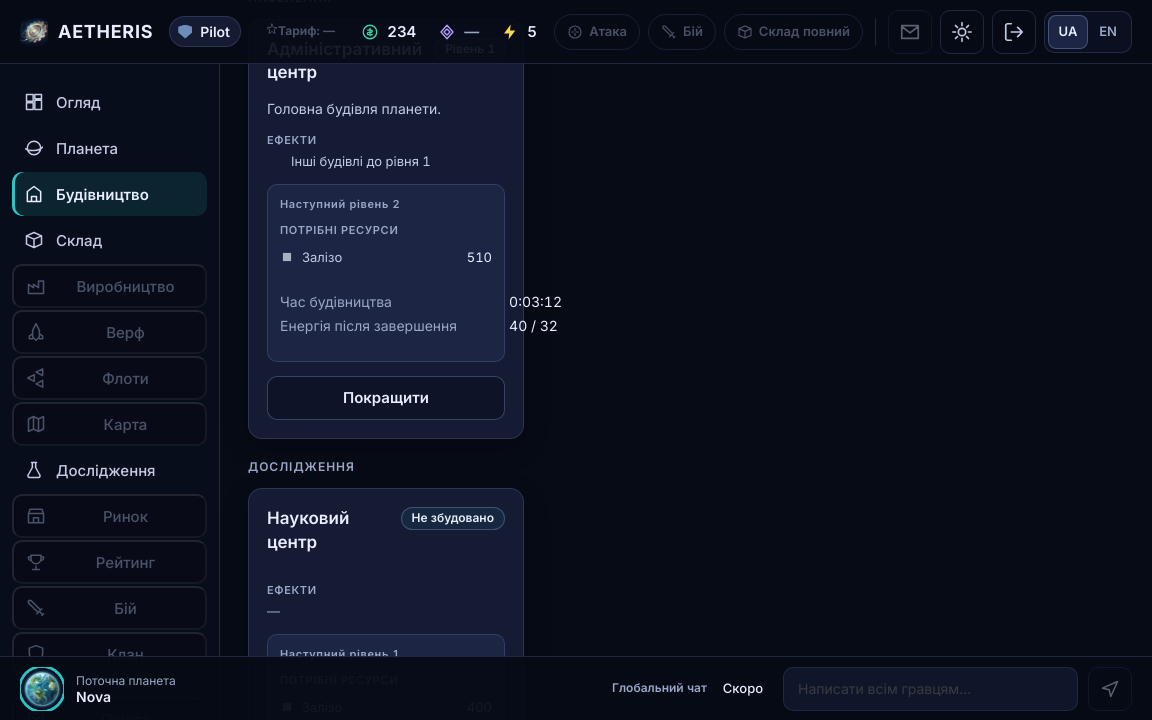
Test: BuildPage: the screen of the construction (task 00020) › queues the next level and cancels a record
(page scrolled)
Click the button "Покращити". click: (386,398)
box: [267,376,505,420]
(page scrolled)
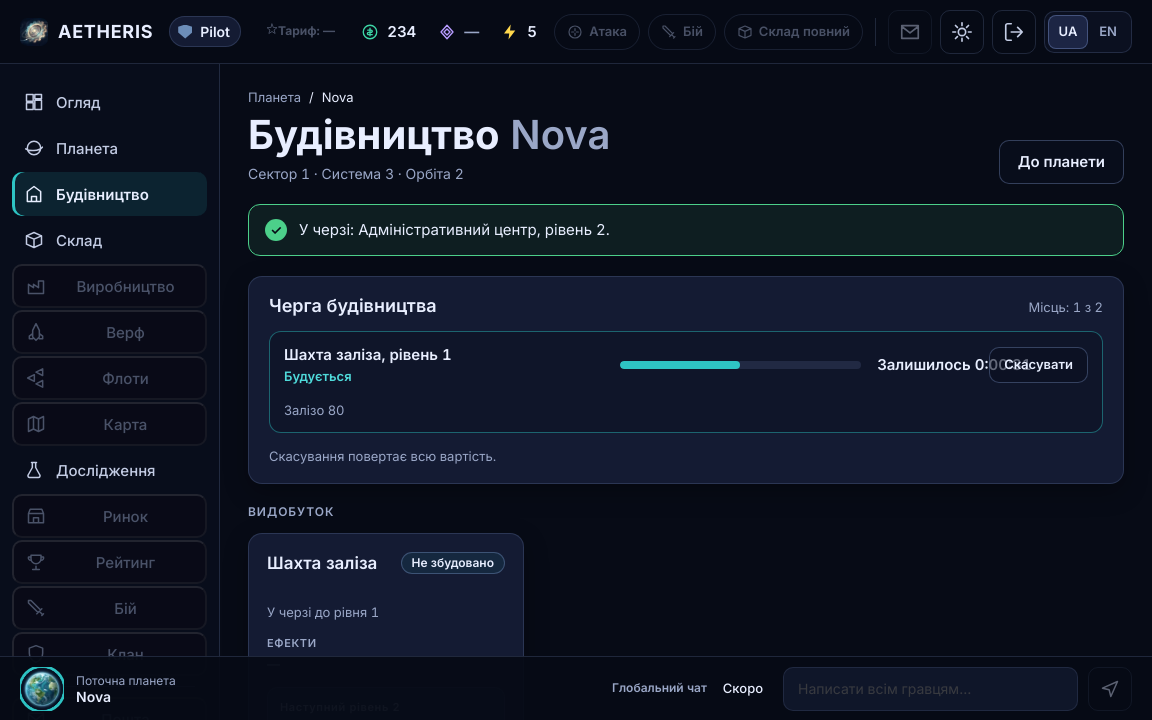
Check: the text "У черзі: Адміністративний центр, рівень 2." is shown, box [299,219,610,240]
Click the button with aria-label "Скасувати: Шахта заліза, рівень 1". click: (1039,365)
box: [989,347,1088,383]
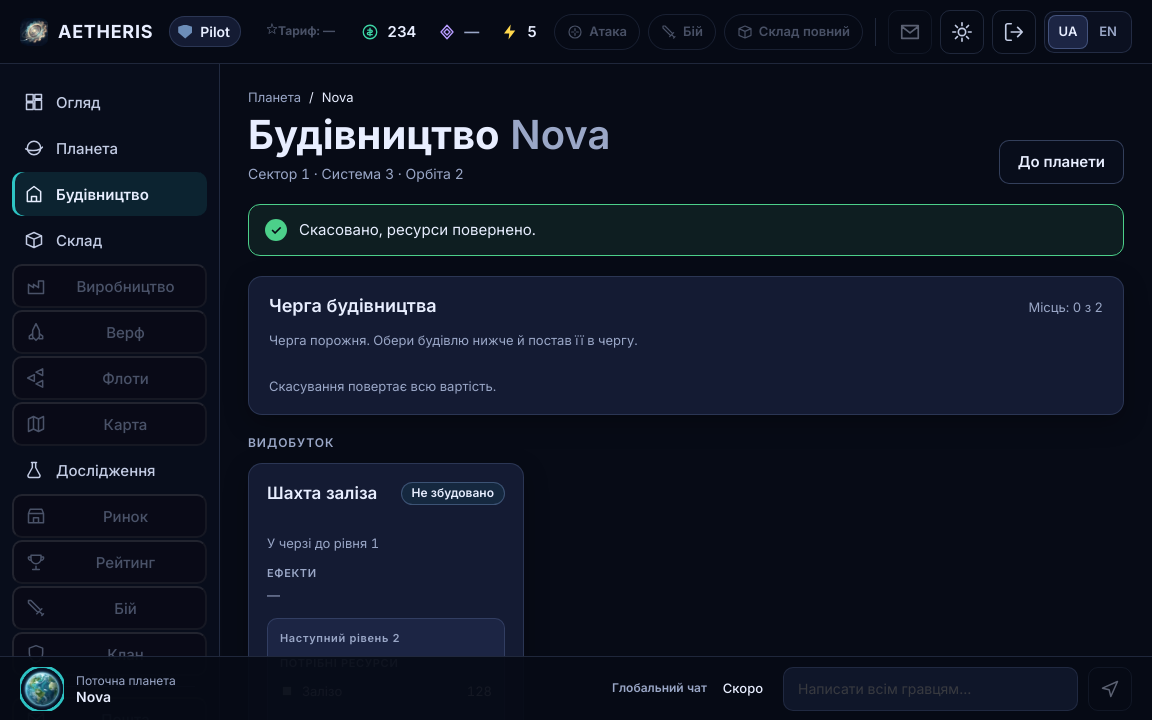
Check: the text "Скасовано, ресурси повернено." is shown, box [299,219,536,240]
Check: the text "Черга порожня. Обери будівлю нижче й постав її в чергу." is shown, box [269,332,638,348]
